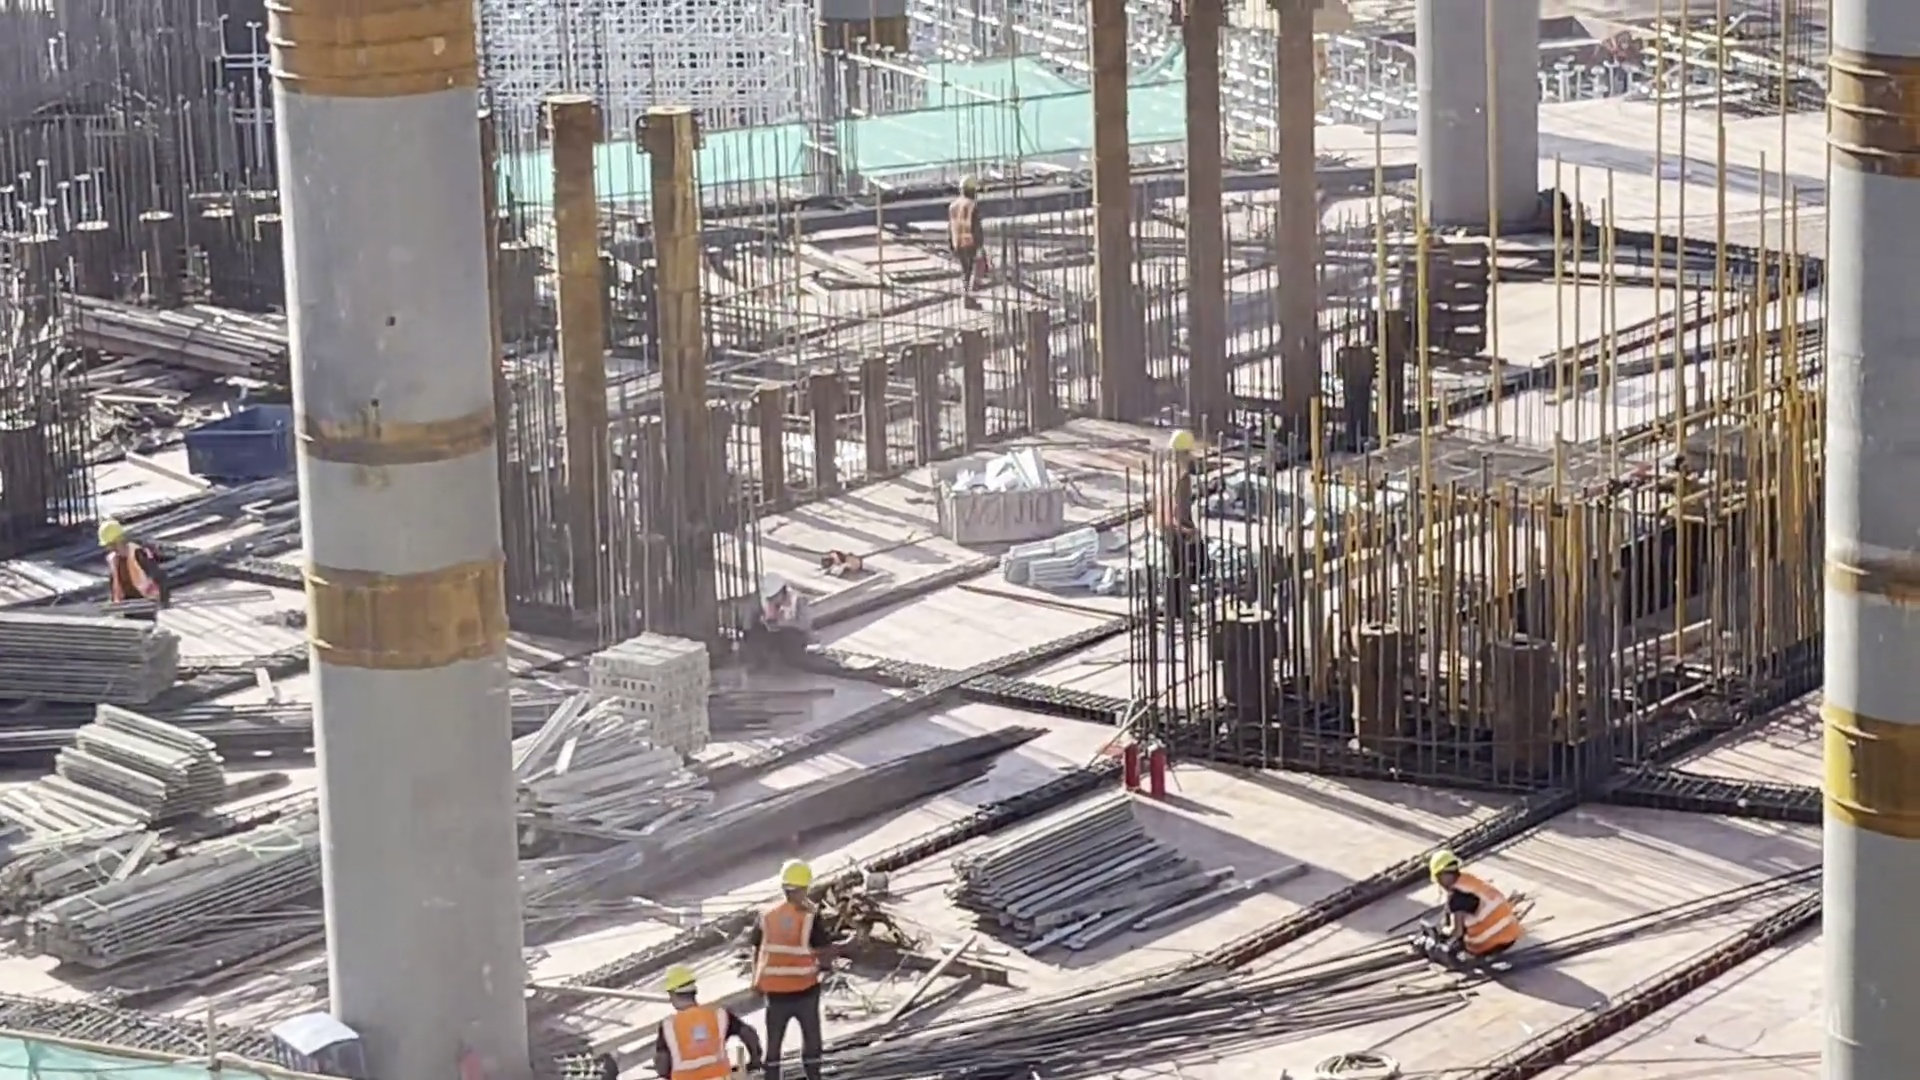helmet: (1421, 845, 1469, 879), (656, 956, 696, 995), (752, 568, 791, 597), (97, 515, 126, 545), (1167, 423, 1193, 453), (778, 857, 803, 883), (955, 168, 973, 200)
person: (736, 839, 847, 1080), (1412, 842, 1540, 989), (73, 515, 188, 638), (640, 965, 746, 1080), (1147, 404, 1210, 578), (944, 165, 1000, 317), (734, 567, 814, 667)
vest: (760, 894, 814, 1004), (1444, 886, 1506, 956), (663, 1011, 724, 1080), (100, 556, 160, 600), (1151, 454, 1182, 531), (945, 194, 978, 253)
